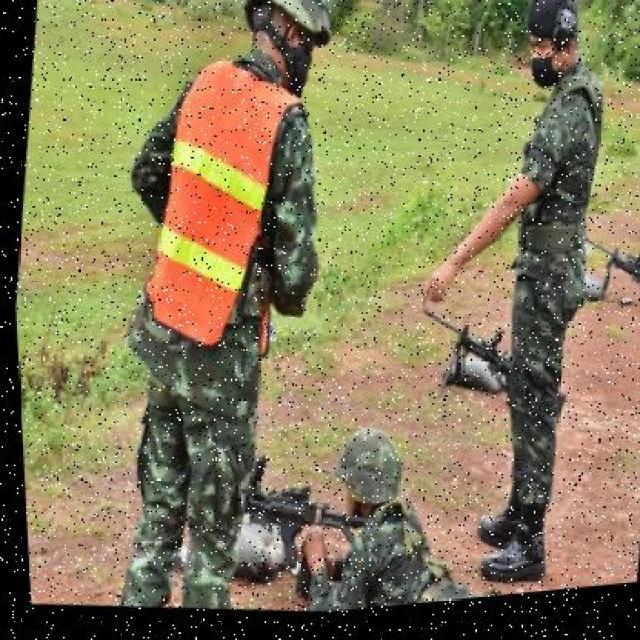MIL_Pax: (78, 0, 356, 628), (460, 0, 631, 592), (297, 418, 545, 619)
